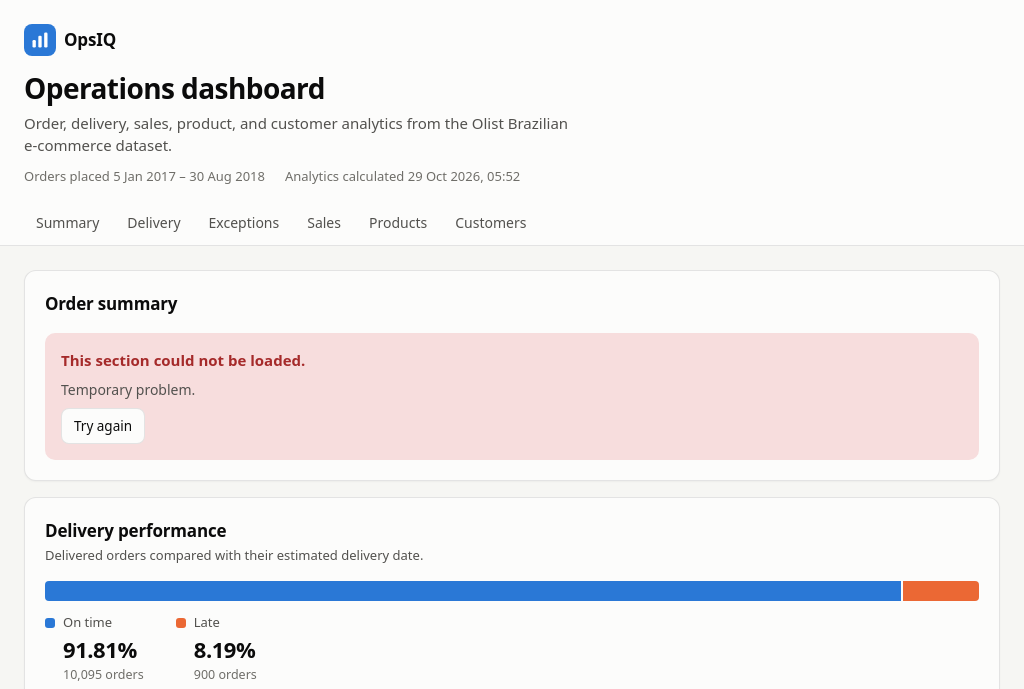
Test: Dashboard › loads the section again when "Try again" is pressed
Click the button "Try again": (103, 426) [61, 408, 145, 444]
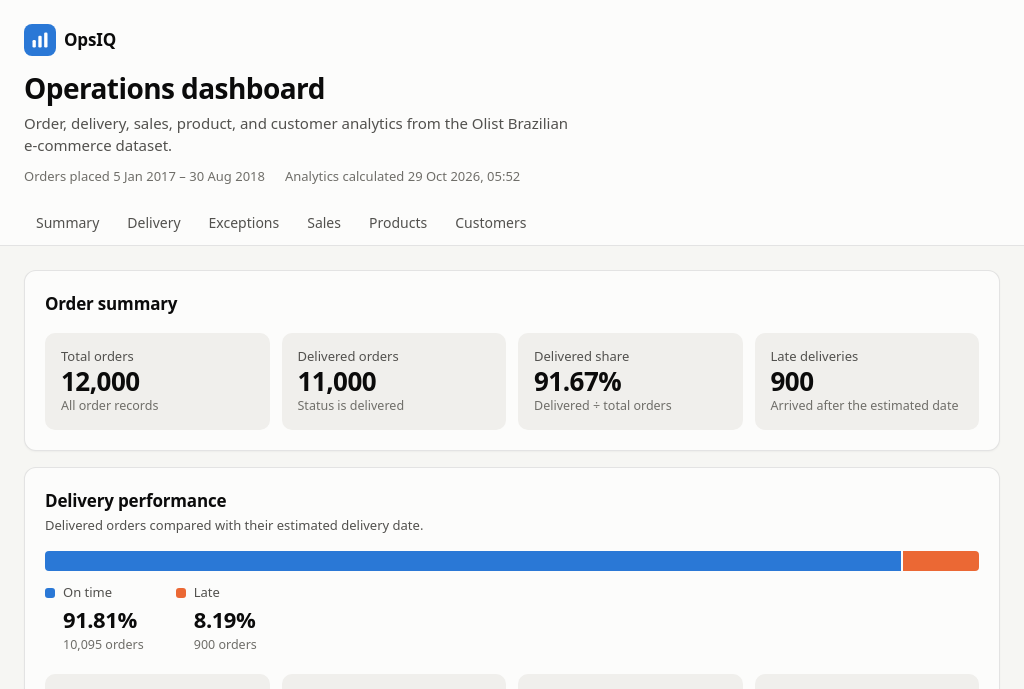
Expected: the text "12,000" is shown, [61, 363, 140, 399]
